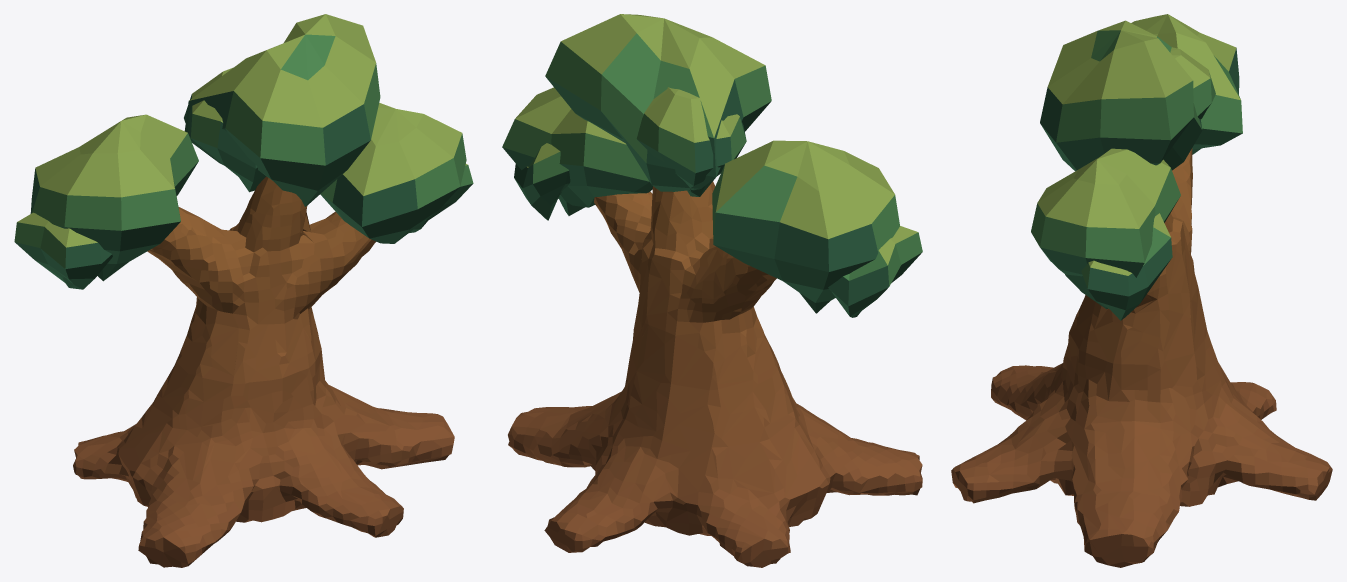
Rendered from rootbound-buttress-trial-a-repair.glb.
The picture shows the model from 3 angles, left to right: view 1: azimuth 30°, elevation 25°; view 2: azimuth 150°, elevation 25°; view 3: azimuth 270°, elevation 25°; orthographic projection. The views are drawn at different scales.
Parts seen in each view (by area): view 1: SM_A2_Wood_ContinuousVoxelBlockout, SM_A2_Canopy_HighMain, SM_A2_Canopy_LeftMain, SM_A2_Canopy_RightMain, SM_A2_Canopy_LeftLower, SM_A2_Canopy_HighRear; view 2: SM_A2_Wood_ContinuousVoxelBlockout, SM_A2_Canopy_LeftMain, SM_A2_Canopy_HighMain, SM_A2_Canopy_RightMain, SM_A2_Canopy_HighRear, SM_A2_Canopy_LeftLower, SM_A2_Canopy_RightLow; view 3: SM_A2_Wood_ContinuousVoxelBlockout, SM_A2_Canopy_HighMain, SM_A2_Canopy_RightMain, SM_A2_Canopy_LeftMain, SM_A2_Canopy_RightLow, SM_A2_Canopy_HighRear.
Boxes of the visible parts, x1=… form: SM_A2_Wood_ContinuousVoxelBlockout: x1=73, y1=176, x2=454, y2=567; SM_A2_Canopy_HighMain: x1=184, y1=14, x2=380, y2=206; SM_A2_Canopy_LeftMain: x1=30, y1=114, x2=198, y2=281; SM_A2_Canopy_RightMain: x1=320, y1=103, x2=466, y2=243; SM_A2_Canopy_LeftLower: x1=14, y1=212, x2=112, y2=289; SM_A2_Canopy_HighRear: x1=184, y1=68, x2=266, y2=192; SM_A2_Wood_ContinuousVoxelBlockout: x1=508, y1=181, x2=922, y2=567; SM_A2_Canopy_LeftMain: x1=712, y1=140, x2=899, y2=313; SM_A2_Canopy_HighMain: x1=545, y1=14, x2=771, y2=191; SM_A2_Canopy_RightMain: x1=502, y1=87, x2=652, y2=207; SM_A2_Canopy_HighRear: x1=636, y1=87, x2=746, y2=196; SM_A2_Canopy_LeftLower: x1=828, y1=226, x2=922, y2=317; SM_A2_Canopy_RightLow: x1=514, y1=143, x2=584, y2=220; SM_A2_Wood_ContinuousVoxelBlockout: x1=951, y1=148, x2=1332, y2=567; SM_A2_Canopy_HighMain: x1=1040, y1=20, x2=1202, y2=171; SM_A2_Canopy_RightMain: x1=1031, y1=148, x2=1180, y2=277; SM_A2_Canopy_LeftMain: x1=1131, y1=14, x2=1242, y2=154; SM_A2_Canopy_RightLow: x1=1065, y1=213, x2=1172, y2=320; SM_A2_Canopy_HighRear: x1=1170, y1=47, x2=1215, y2=119.
Size of the model in its own units: 5.46 by 5.87 by 4.26.
